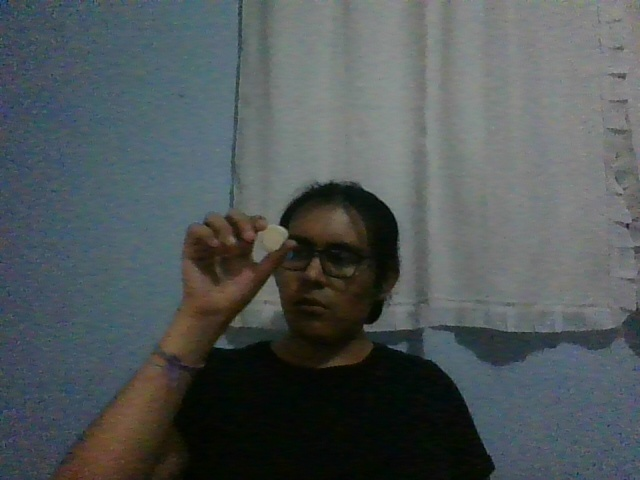goma: (263, 224, 288, 251)
